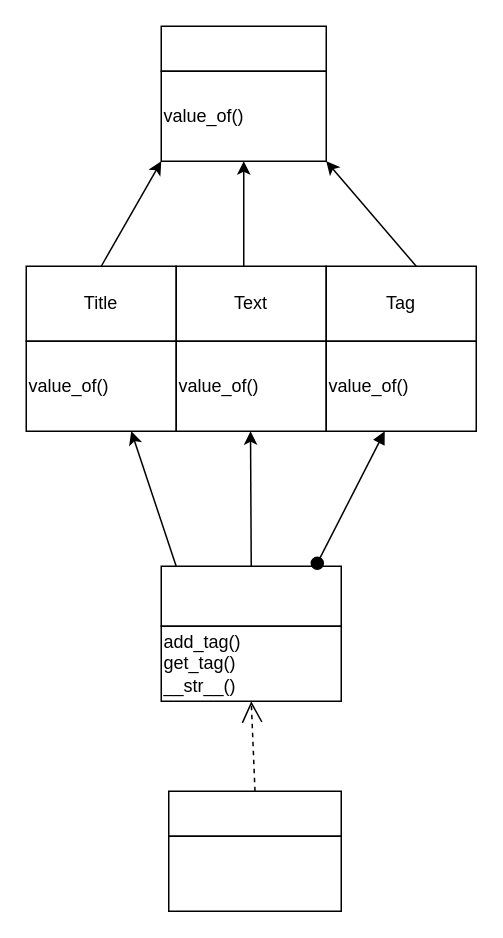
Some shapes in this 503 by 938 pixel diagram are drawn without their labels. The centre of each missing label's shape, as x and y in pixels:
"FIELD" belongs at pixel 243 48.
"Item" belongs at pixel 250 595.
"Notes" belongs at pixel 254 813.
"Object" belongs at pixel 254 873.
